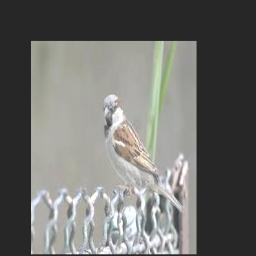Sparrow: (102, 93, 184, 216)
